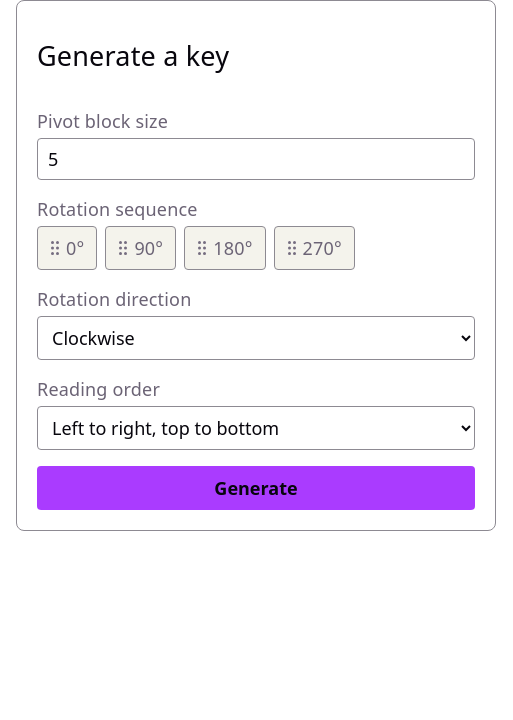
KeyGeneratorForm › shows an error state when the clipboard write fails
Submit the form
(page scrolled)
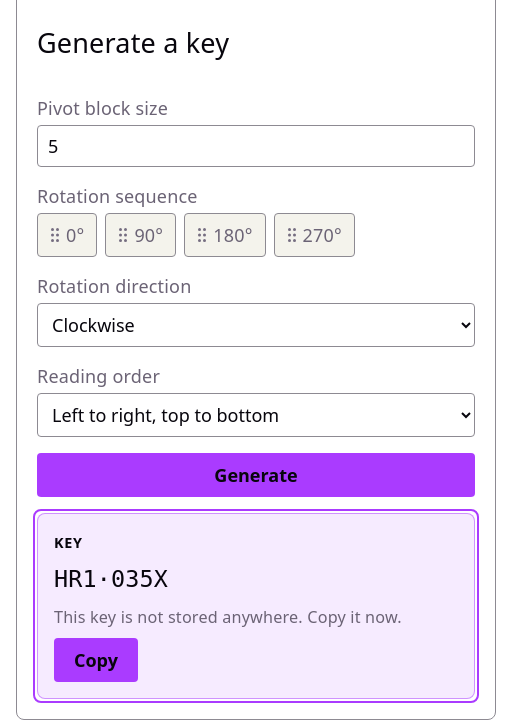
Click the button "Copy" at [96, 660], box 54,638 -> 138,682
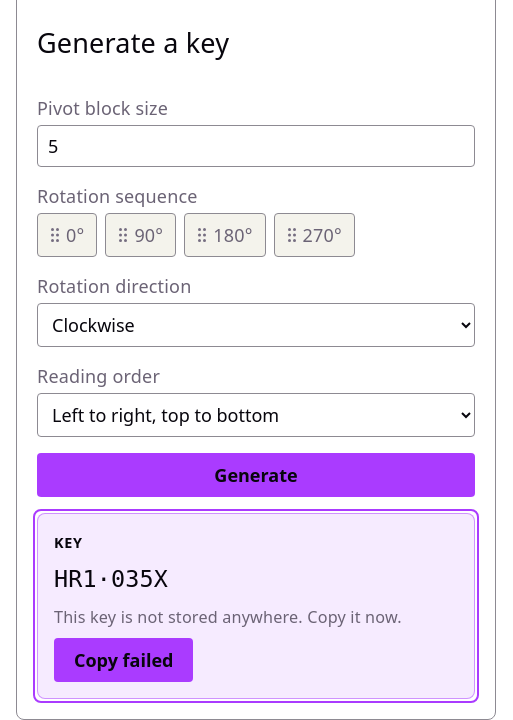
Result: the button "Copy failed" is shown at 54,638 -> 193,682
